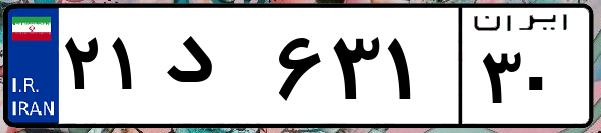0: (525, 38, 570, 115)
1: (385, 28, 445, 110), (110, 28, 158, 98)
2: (57, 26, 110, 100)
3: (330, 28, 385, 110), (475, 38, 525, 113)
6: (270, 28, 330, 110)
د: (158, 20, 270, 120)
